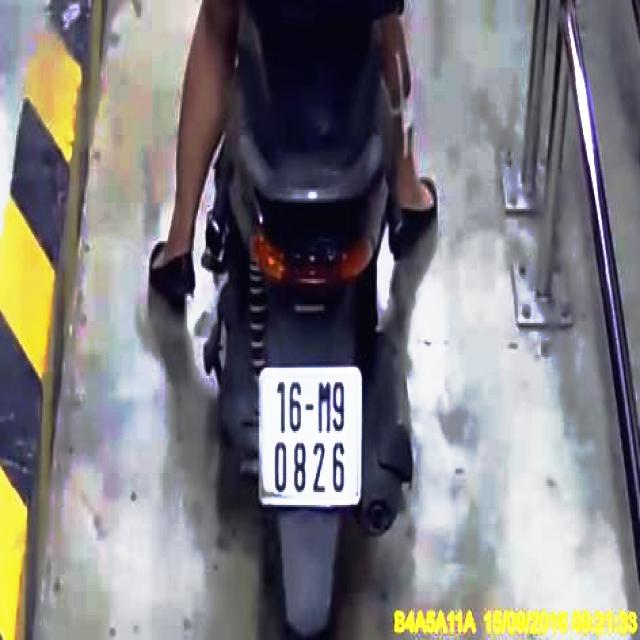license_plate: (259, 376, 361, 504)
